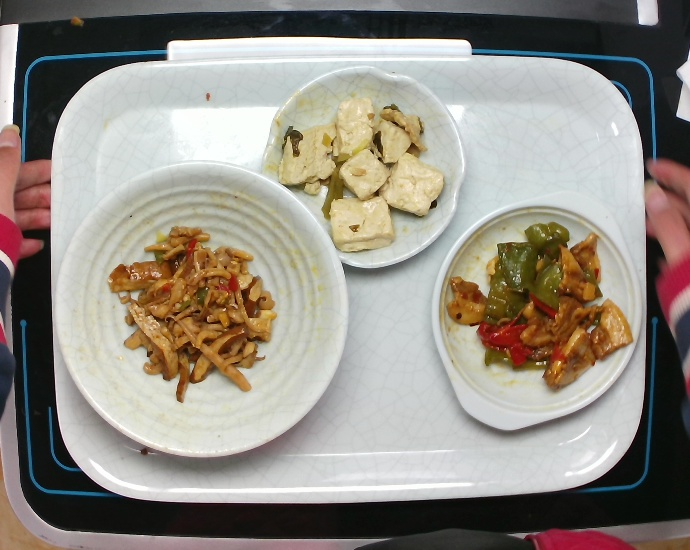JYsf-Ao_Yuan_Wan: (251, 61, 471, 278)
JYsf-Shuang_Er_Pan: (420, 182, 642, 438)
JYsf-Xiao_Tang_Wan: (48, 159, 359, 465)
